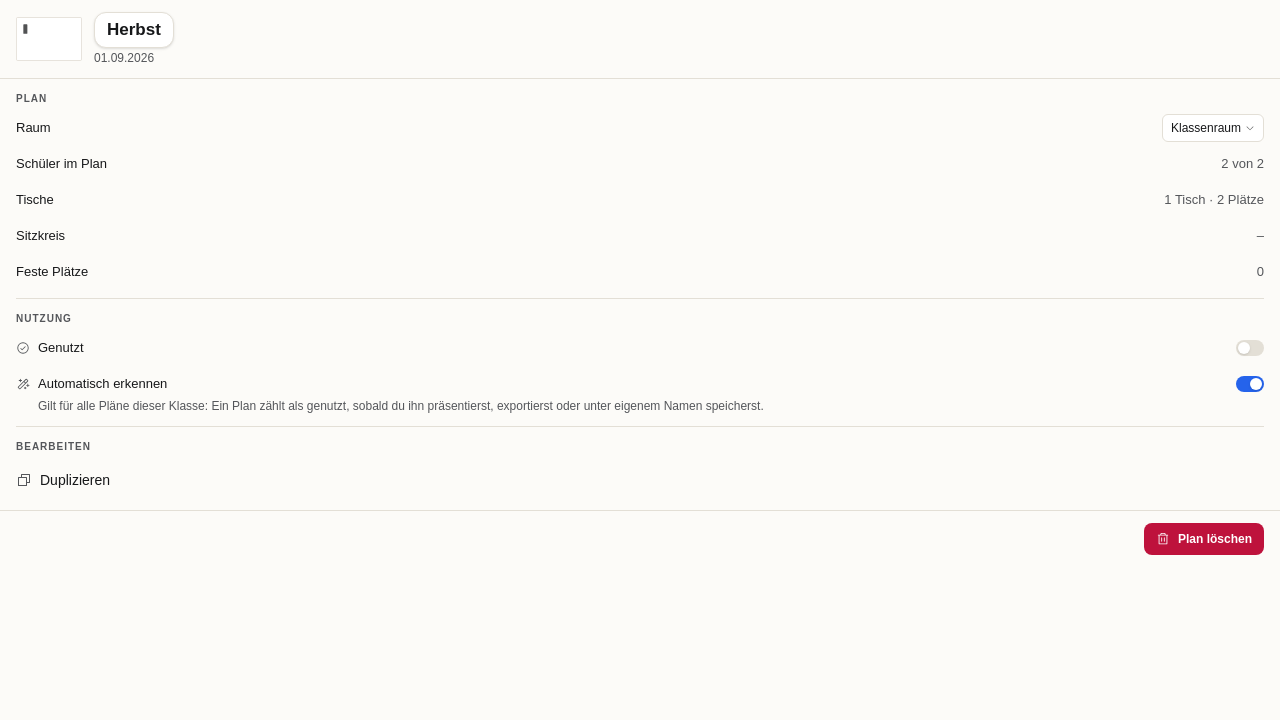
Scenario: PlanPanel › moves the plan to another room from the menu
The width and height of the screenshot is (1280, 720).
Click the button "Klassenraum".
click(1213, 128)  # box [1162,114,1264,142]
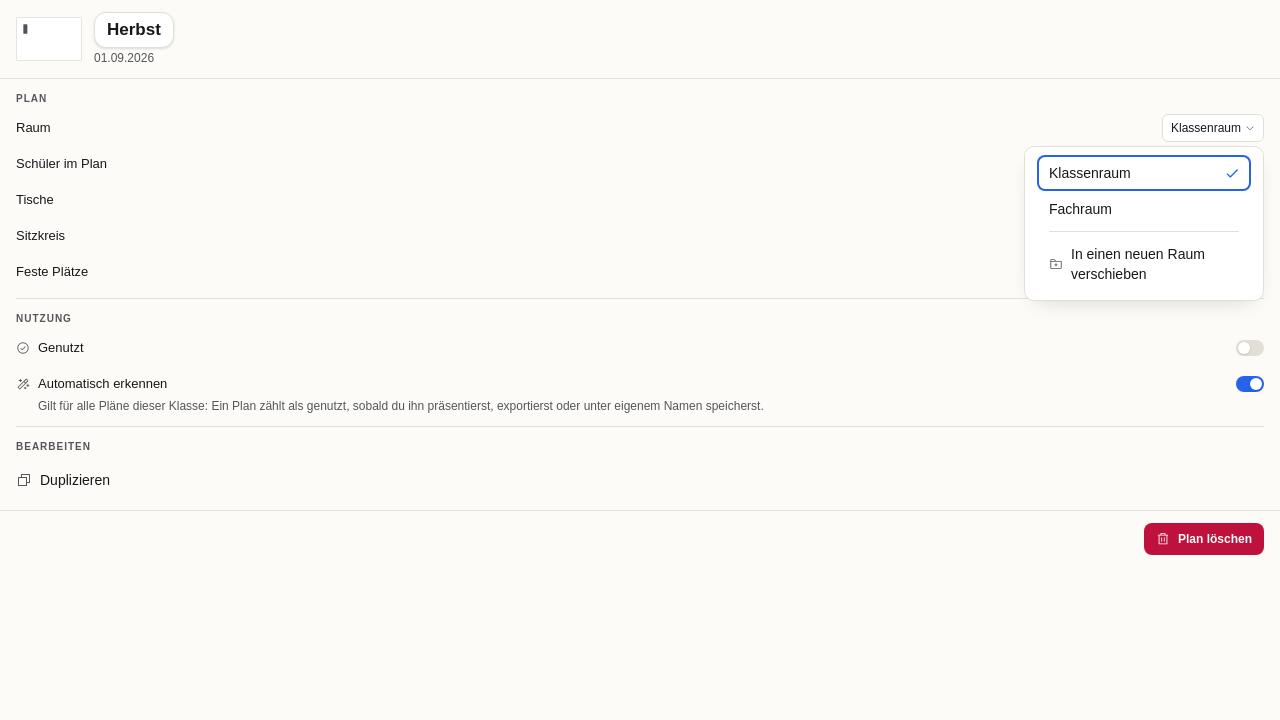
Click the button "Fachraum".
click(1144, 208)  # box [1037,190,1251,226]
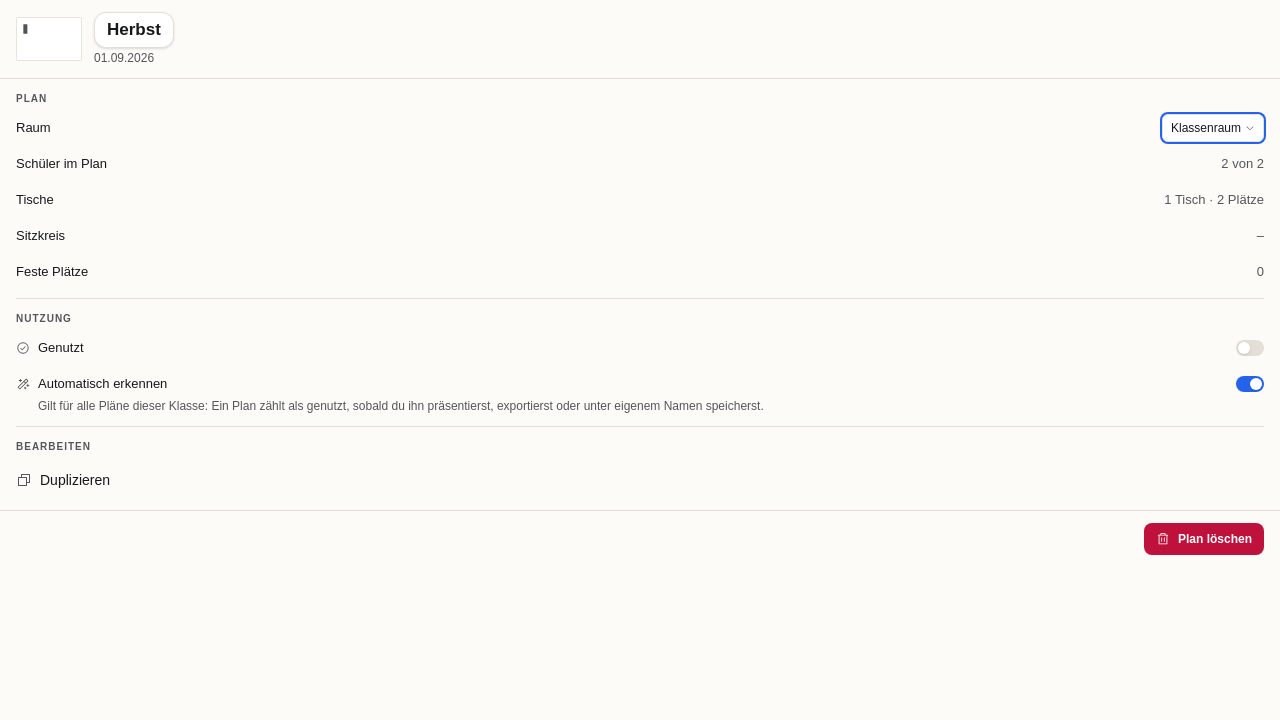
Result: the dialog is gone
